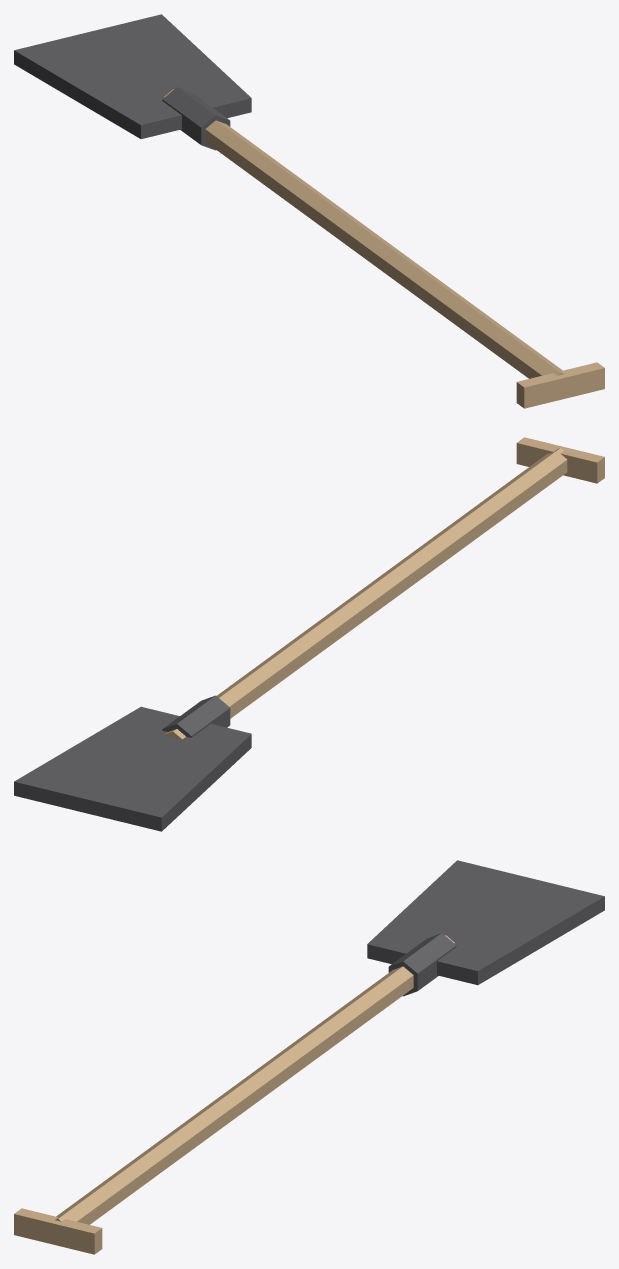
Rendered from SM_Shovel.glb.
The picture shows the model from 3 angles, top to bottom: view 1: azimuth 30°, elevation 25°; view 2: azimuth 150°, elevation 25°; view 3: azimuth 330°, elevation 25°; orthographic projection.
Parts seen in each view (by area): view 1: SM_Shovel; view 2: SM_Shovel; view 3: SM_Shovel.
Boxes of the visible parts, box(x1,y1,x2,y2) form: SM_Shovel: box(14, 14, 604, 408); SM_Shovel: box(14, 437, 604, 831); SM_Shovel: box(14, 860, 604, 1254).
Bounding box in the file's own units: 0.22 × 0.05 × 1.23.
